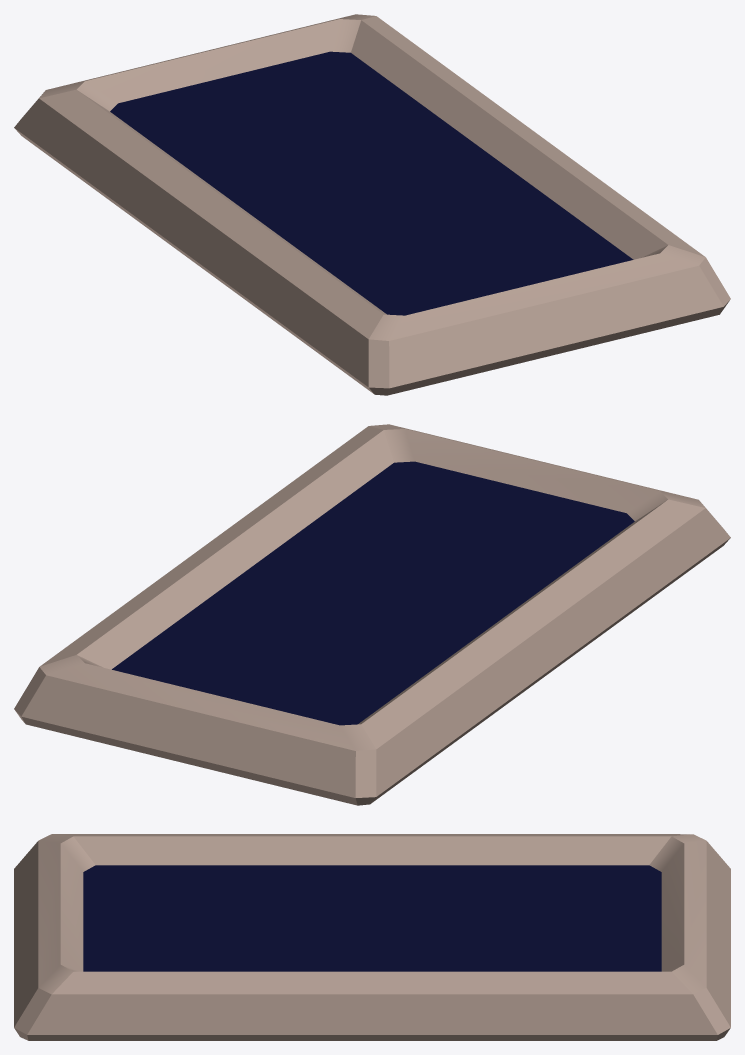
The model's file is SM_inkwell.fbx.
The picture shows the model from 3 angles, top to bottom: view 1: azimuth 30°, elevation 25°; view 2: azimuth 150°, elevation 25°; view 3: azimuth 270°, elevation 25°; orthographic projection. The views are drawn at different scales.
Parts seen in each view (by area): view 1: SM_inkwell; view 2: SM_inkwell; view 3: SM_inkwell.
Boxes of the visible parts, x1,y1,x2,y2 form: SM_inkwell: [14, 14, 730, 395]; SM_inkwell: [14, 424, 730, 805]; SM_inkwell: [14, 834, 730, 1040].
Bounding box in the file's own units: 11.65 × 1.71 × 20.5.
